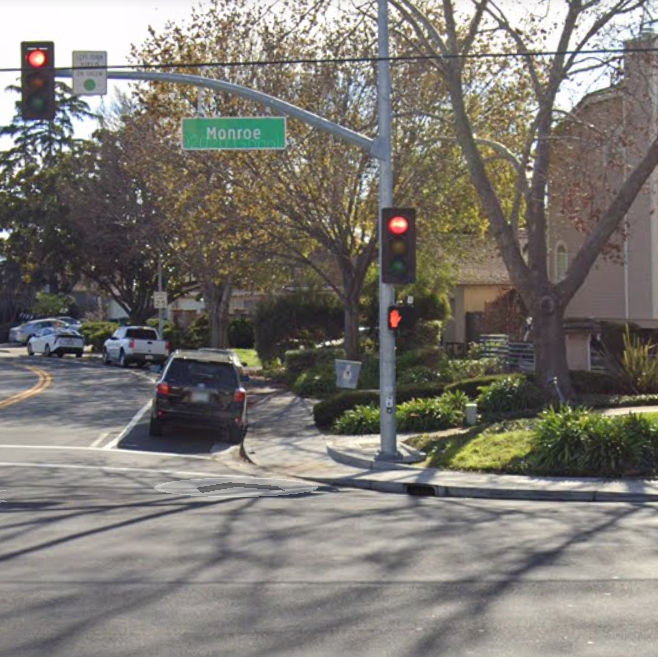red_light: (382, 208, 417, 282), (22, 42, 51, 116)
